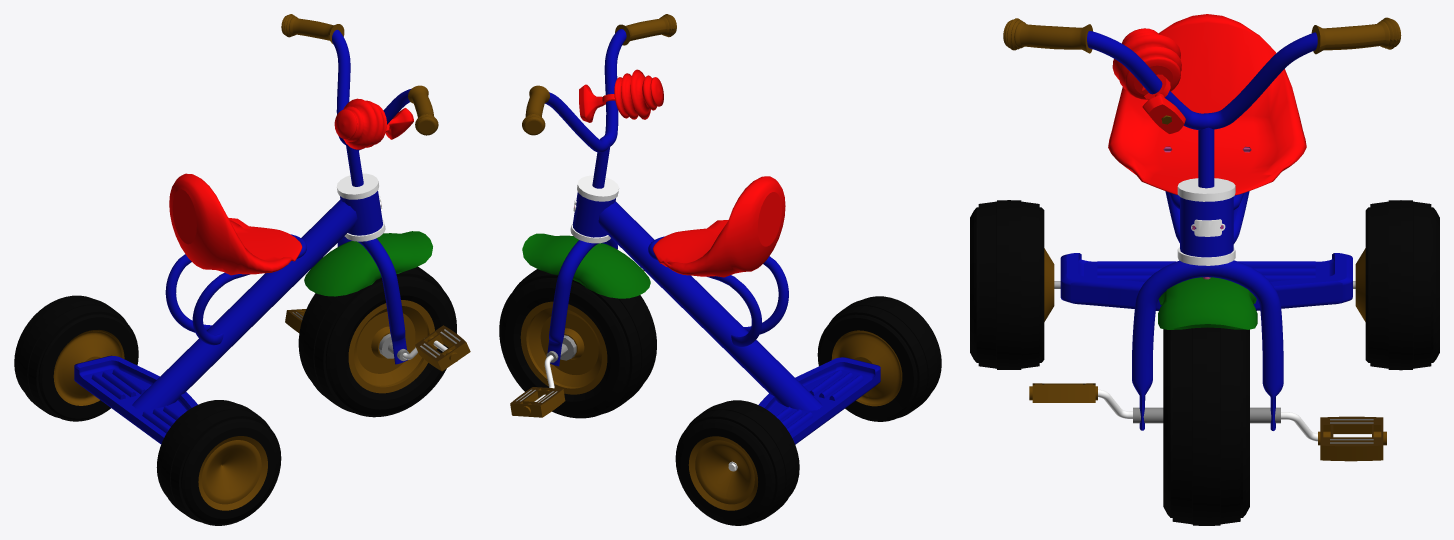
Rendered from Trike.FBX.
3 views of the same model, side by side, from view 1: azimuth 30°, elevation 25°; view 2: azimuth 150°, elevation 25°; view 3: azimuth 270°, elevation 25° (orthographic). The views are drawn at different scales.
Visible parts, largest first — view 1: Group01, ruotaGr, tubo, sel, base, tromba01, sella, forcella, manubrio, ped05, tuboV, manopola (+2 smaller); view 2: Group01, ruotaGr, tubo, sel, base, tromba01, manubrio, sella, forcella, ped04, tuboV, manopola01 (+2 smaller); view 3: Group01, sel, ruotaGr, base, forcella, manubrio, tromba01, ped04, tuboV, manopola01, manopola, ped05 (+4 smaller).
Boxes of the visible parts, <box> form: Group01: <box>14,231,432,525</box>; ruotaGr: <box>298,266,456,417</box>; tubo: <box>132,200,357,409</box>; sel: <box>169,173,302,275</box>; base: <box>74,355,197,444</box>; tromba01: <box>334,98,413,149</box>; sella: <box>165,234,306,345</box>; forcella: <box>337,236,407,364</box>; manubrio: <box>332,29,411,150</box>; ped05: <box>415,325,470,371</box>; tuboV: <box>340,191,382,235</box>; manopola: <box>281,14,344,44</box>; Group01: <box>522,206,941,525</box>; ruotaGr: <box>499,269,656,418</box>; tubo: <box>598,201,822,410</box>; sel: <box>653,176,785,277</box>; base: <box>758,357,880,444</box>; tromba01: <box>579,69,663,122</box>; manubrio: <box>545,29,626,152</box>; sella: <box>648,236,788,346</box>; forcella: <box>547,238,617,366</box>; ped04: <box>510,387,565,417</box>; tuboV: <box>572,192,615,237</box>; manopola01: <box>615,14,676,45</box>; Group01: <box>970,147,1439,370</box>; sel: <box>1108,14,1306,195</box>; ruotaGr: <box>1163,327,1249,525</box>; base: <box>1060,253,1352,310</box>; forcella: <box>1132,260,1283,430</box>; manubrio: <box>1087,31,1317,130</box>; tromba01: <box>1112,28,1185,133</box>; ped04: <box>1318,416,1386,461</box>; tuboV: <box>1180,196,1233,257</box>; manopola01: <box>1003,18,1092,53</box>; manopola: <box>1311,17,1401,54</box>; ped05: <box>1029,383,1097,402</box>.
Bounding box in the file's own units: 581 × 559 × 486.
